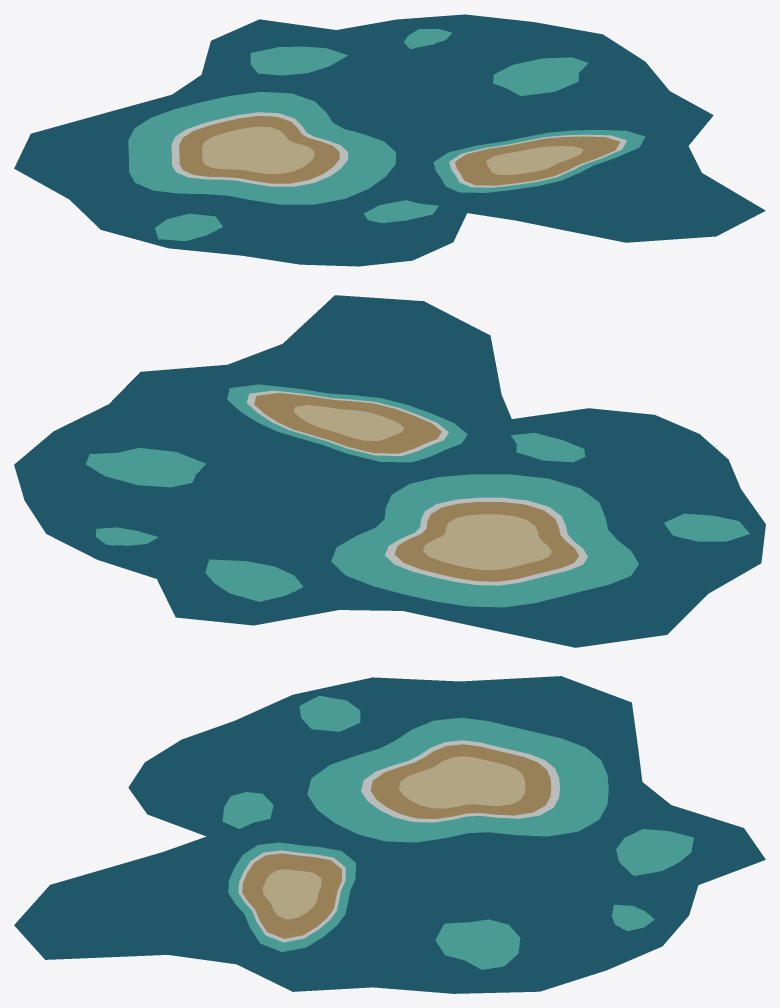
The model's file is cove-water-blob-1e44bb.glb.
3 views of the same model, one above another, from view 1: azimuth 30°, elevation 25°; view 2: azimuth 150°, elevation 25°; view 3: azimuth 270°, elevation 25° (orthographic). The views are drawn at different scales.
Visible parts, largest first — view 1: cove-water-blob; view 2: cove-water-blob; view 3: cove-water-blob.
Part boxes in pixels (<box>): cove-water-blob: <box>14,14,765,266</box>; cove-water-blob: <box>14,295,765,647</box>; cove-water-blob: <box>14,676,765,993</box>.
Size of the model in its own units: 50 by 0.0504 by 50.
